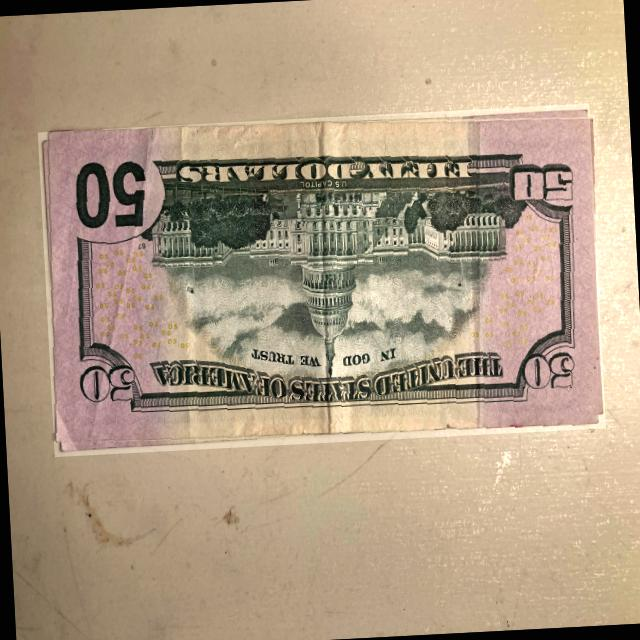fifty: (39, 104, 607, 457)
